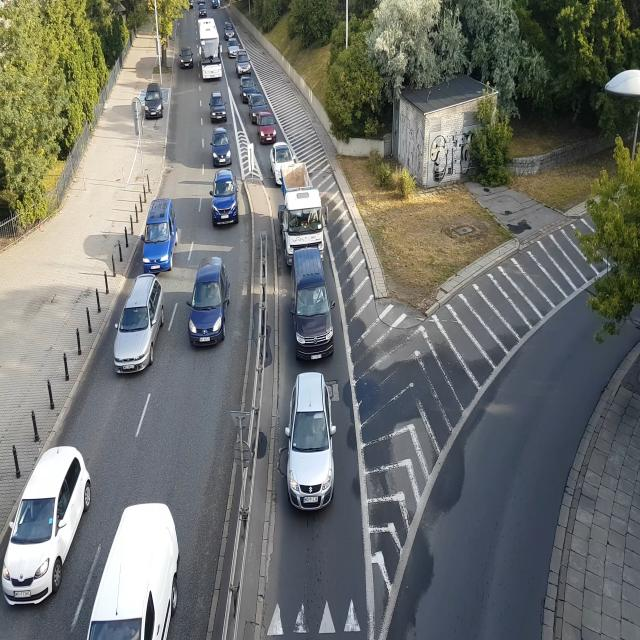bus: (197, 18, 222, 78)
car: (0, 435, 89, 607), (87, 507, 189, 640), (284, 372, 337, 513), (106, 281, 166, 376), (288, 250, 335, 356), (187, 256, 233, 346), (142, 202, 176, 274), (211, 170, 239, 228), (271, 136, 295, 174), (143, 85, 165, 120), (212, 129, 232, 167), (258, 111, 276, 147), (248, 93, 268, 123), (179, 38, 195, 73), (240, 76, 258, 102), (210, 89, 226, 118), (236, 47, 249, 73), (227, 37, 240, 56), (222, 20, 235, 39), (198, 4, 208, 18), (211, 0, 222, 10)
truck: (277, 162, 325, 255)
